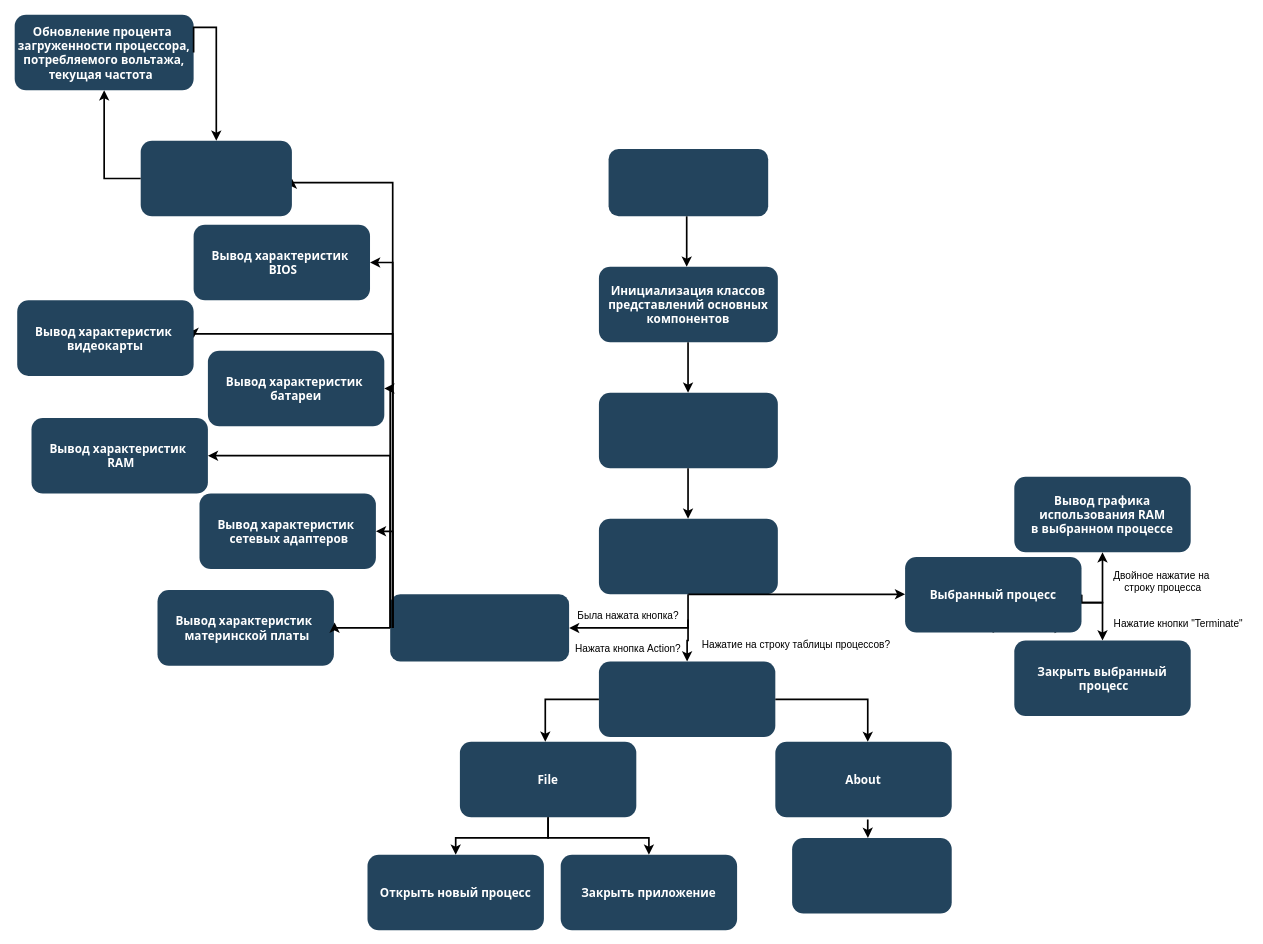
The diagram is 1263 pixels wide and 944 high, and some of its shapes have lost their labels. Here are the shapes that lost their labels. From the top down, the centre of each, then its label:
pixel 215 178: Вывод характеристик процессора
pixel 688 182: Запуск программного продукта
pixel 687 430: Отображение пользовательского интерфейса
pixel 687 556: Обработка нажатий кнопки мыши
pixel 479 627: Вывод аппаратных характеристик компьютера
pixel 686 699: Action
pixel 871 875: Вывод информации о приложении
